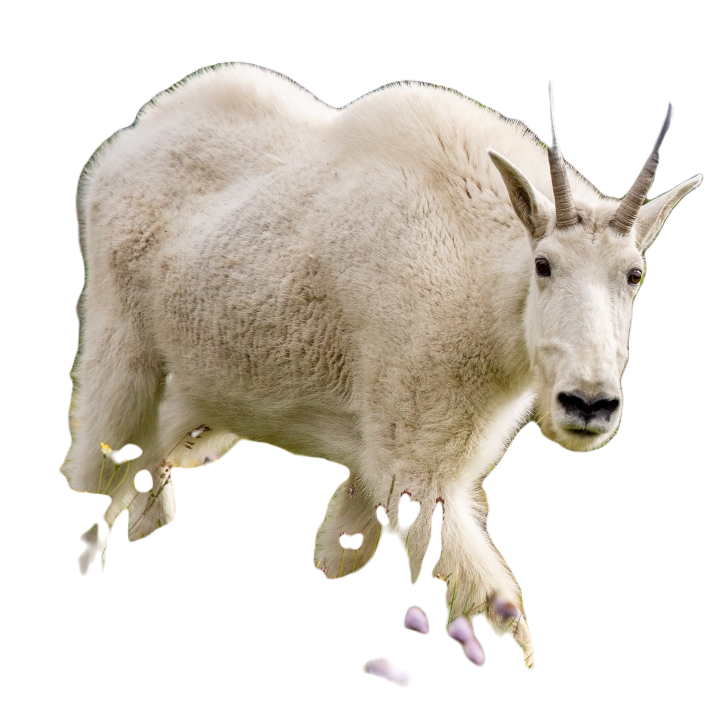Goat: (60, 57, 708, 677)
